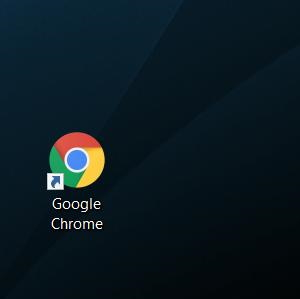chrome: (47, 131, 104, 189)
